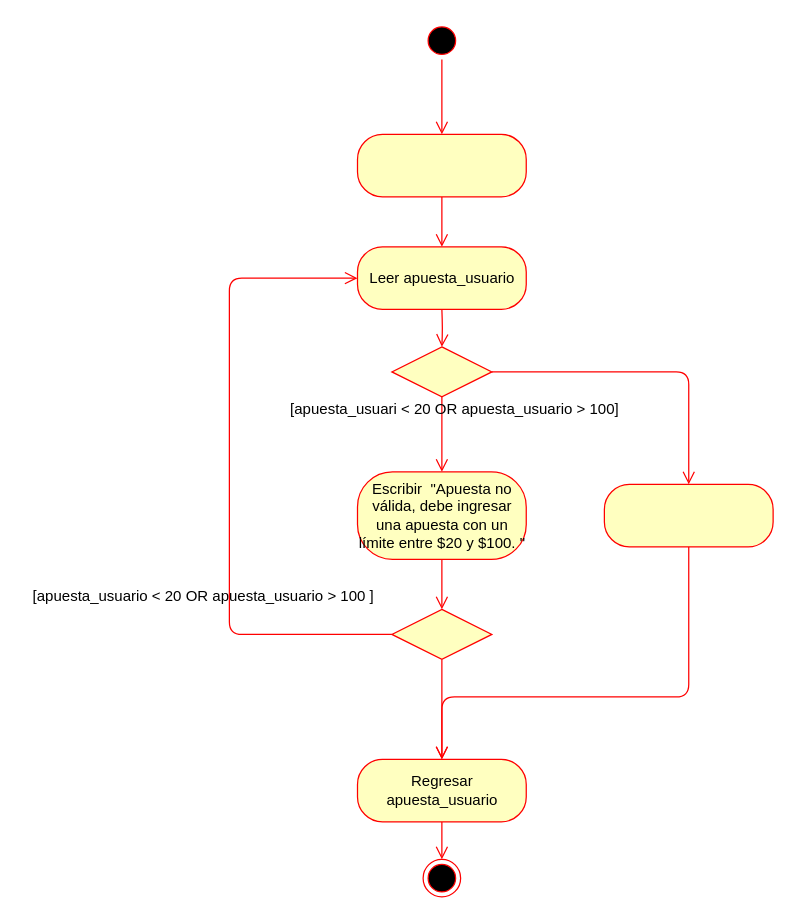
Image size: 795x919. Some labels were removed from this diagram. Here are the shapes that lost their labels. From the top down, the centre of each, then its label:
the point at 441,165: apuesta_usuario = 0
the point at 688,515: Escribir "Tu apuesta de la ronda es: ", apuesta_usuario
